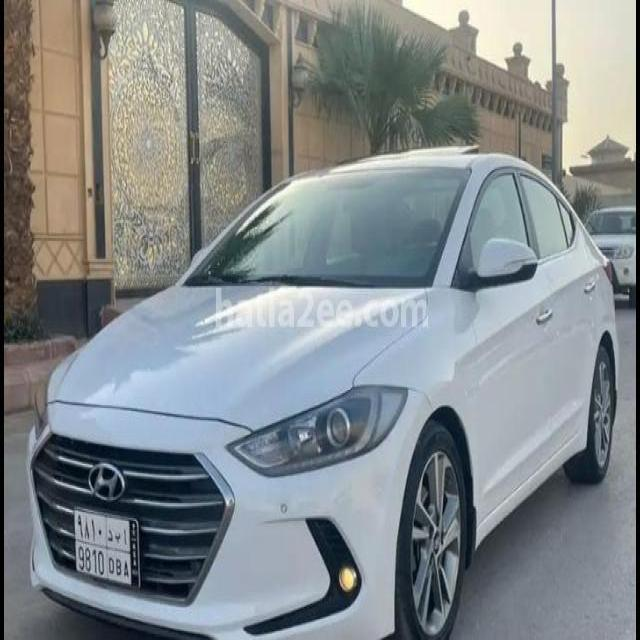license_plate: (66, 497, 139, 593), (601, 232, 638, 271)
